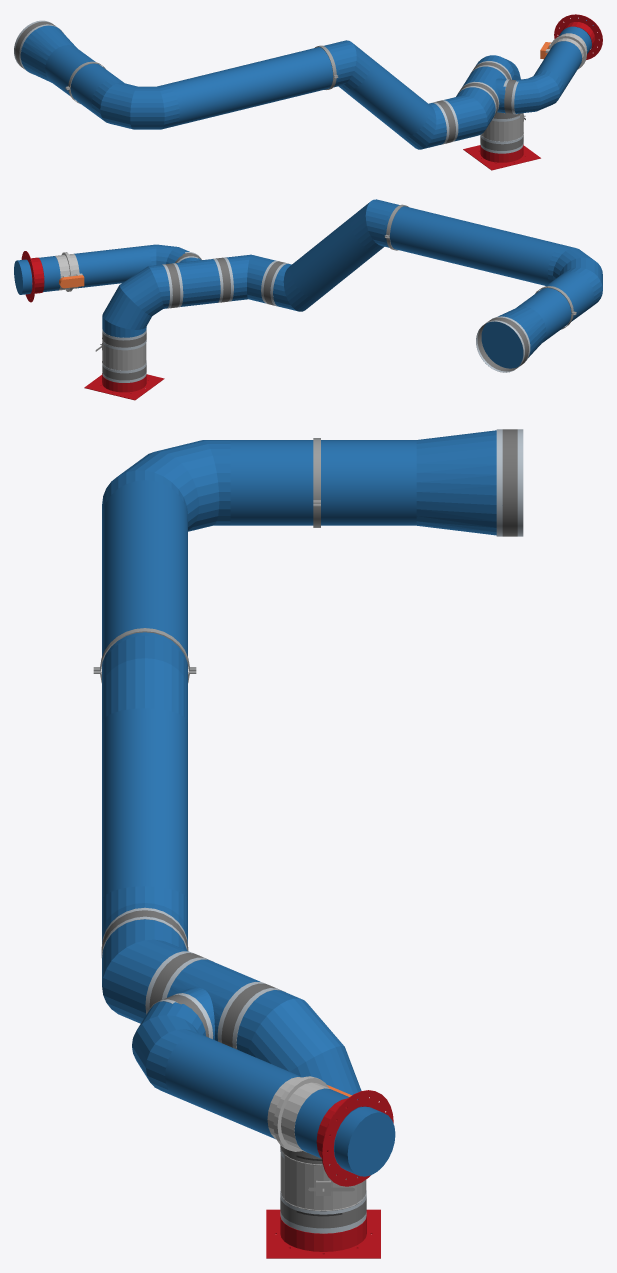
File: Phase19 (2).fbx
3 renders of one model, top to bottom at view 1: azimuth 30°, elevation 25°; view 2: azimuth 150°, elevation 25°; view 3: azimuth 270°, elevation 25°, orthographic. The views are drawn at different scales.
Parts seen in each view (by area): view 1: Воздуховод круглого сечения:CPS_Оцинковка_Врезки_ГОСТ 14918- (×5), Сталь (×3), CPS_Переходник_Круглый_2:Стандарт:659132, CPS_Отвод_Круглый1:Стандарт 2:657963, CPS_Переходник_Круглый_1:Стандарт 2:663741, VEZA_Гибкий рукав (×4), CPS_фланец, Фланец, VEZA_Металл_Сталь_Оцинкованная (×3), Оцинкованная сталь, CPS_Тройник_Круглый1:Стандарт 2:664705, BIMLIB_Сталь_Бастион (+1 smaller); view 2: Воздуховод круглого сечения:CPS_Оцинковка_Врезки_ГОСТ 14918- (×5), Сталь (×3), CPS_Отвод_Круглый4:Стандарт 2:662573, CPS_Переходник_Круглый_1:Стандарт 2:663741, VEZA_Гибкий рукав (×6), VEZA_Металл_Сталь_Оцинкованная (×6), CPS_Тройник_Круглый1:Стандарт 2:664705, CPS_Переходник_Круглый_2:Стандарт:659132, CPS_фланец, Оцинкованная сталь, CPS_Отвод_Круглый1:Стандарт 2:657963, Фланец (+3 smaller); view 3: Воздуховод круглого сечения:CPS_Оцинковка_Врезки_ГОСТ 14918- (×5), Сталь (×3), CPS_Переходник_Круглый_1:Стандарт 2:663741, CPS_Отвод_Круглый4:Стандарт 2:662573, CPS_Переходник_Круглый_2:Стандарт:659132, CPS_фланец, CPS_Отвод_Круглый1:Стандарт 2:657963, Воздуховод круглого сечения:CPS_Пластик круглый:557482, Оцинкованная сталь, VEZA_Гибкий рукав (×2), CPS_Тройник_Круглый1:Стандарт 2:664705, Фланец (+2 smaller).
Boxes of the visible parts, bbox=[...] form: Воздуховод круглого сечения:CPS_Оцинковка_Врезки_ГОСТ 14918- (×5): bbox=[45, 26, 591, 136]; Сталь (×3): bbox=[91, 40, 446, 149]; CPS_Переходник_Круглый_2:Стандарт:659132: bbox=[444, 87, 495, 141]; CPS_Отвод_Круглый1:Стандарт 2:657963: bbox=[514, 70, 563, 113]; CPS_Переходник_Круглый_1:Стандарт 2:663741: bbox=[20, 25, 77, 82]; VEZA_Гибкий рукав (×4): bbox=[15, 21, 523, 150]; CPS_фланец: bbox=[463, 144, 540, 170]; Фланец: bbox=[554, 14, 602, 59]; VEZA_Металл_Сталь_Оцинкованная (×3): bbox=[14, 20, 523, 153]; Оцинкованная сталь: bbox=[481, 113, 525, 142]; CPS_Тройник_Круглый1:Стандарт 2:664705: bbox=[462, 66, 506, 113]; BIMLIB_Сталь_Бастион: bbox=[545, 33, 587, 69]; Воздуховод круглого сечения:CPS_Оцинковка_Врезки_ГОСТ 14918- (×5): bbox=[39, 205, 593, 342]; Сталь (×3): bbox=[273, 199, 602, 311]; CPS_Отвод_Круглый4:Стандарт 2:662573: bbox=[102, 264, 169, 337]; CPS_Переходник_Круглый_1:Стандарт 2:663741: bbox=[481, 306, 546, 368]; VEZA_Гибкий рукав (×6): bbox=[102, 257, 528, 380]; VEZA_Металл_Сталь_Оцинкованная (×6): bbox=[102, 257, 530, 382]; CPS_Тройник_Круглый1:Стандарт 2:664705: bbox=[176, 257, 220, 306]; CPS_Переходник_Круглый_2:Стандарт:659132: bbox=[226, 254, 275, 303]; CPS_фланец: bbox=[84, 373, 164, 400]; Оцинкованная сталь: bbox=[95, 338, 146, 371]; CPS_Отвод_Круглый1:Стандарт 2:657963: bbox=[145, 244, 189, 265]; Фланец: bbox=[21, 251, 44, 302]; Воздуховод круглого сечения:CPS_Оцинковка_Врезки_ГОСТ 14918- (×5): bbox=[102, 440, 416, 1161]; Сталь (×3): bbox=[102, 440, 230, 943]; CPS_Переходник_Круглый_1:Стандарт 2:663741: bbox=[416, 430, 496, 535]; CPS_Отвод_Круглый4:Стандарт 2:662573: bbox=[236, 990, 361, 1099]; CPS_Переходник_Круглый_2:Стандарт:659132: bbox=[102, 919, 188, 1023]; CPS_фланец: bbox=[266, 1209, 380, 1258]; CPS_Отвод_Круглый1:Стандарт 2:657963: bbox=[132, 1001, 205, 1096]; Воздуховод круглого сечения:CPS_Пластик круглый:557482: bbox=[334, 1106, 395, 1176]; Оцинкованная сталь: bbox=[280, 1147, 366, 1211]; VEZA_Гибкий рукав (×2): bbox=[280, 429, 517, 1228]; CPS_Тройник_Круглый1:Стандарт 2:664705: bbox=[167, 959, 260, 1041]; Фланец: bbox=[316, 1090, 393, 1186].
Bounding box in the file's own units: 6535 × 2255 × 2288.
